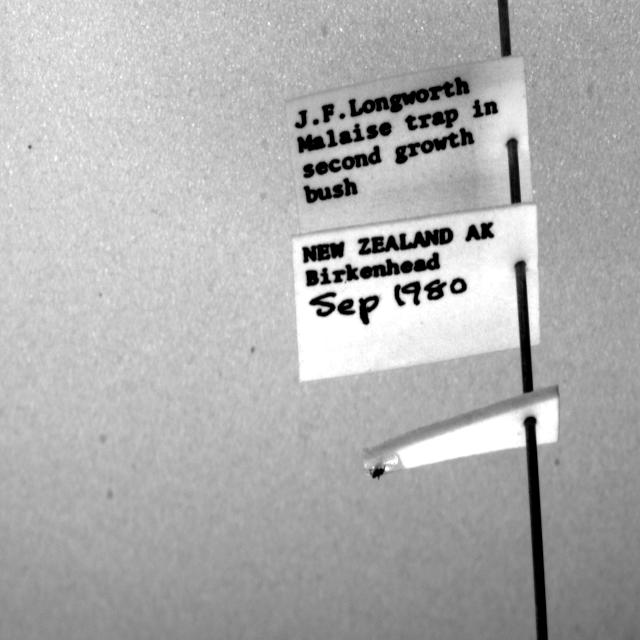mixed_label: (292, 204, 540, 381)
typed_label: (286, 56, 532, 232)
